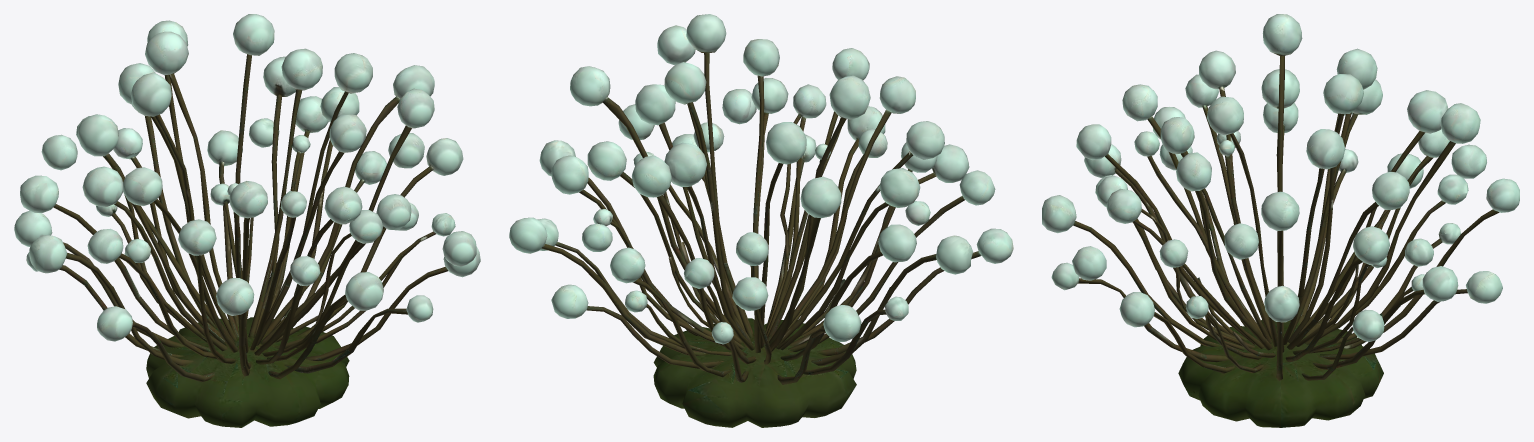
Rendered from puffball-plant.glb.
3 views of the same model, side by side, from view 1: azimuth 30°, elevation 25°; view 2: azimuth 150°, elevation 25°; view 3: azimuth 270°, elevation 25° (orthographic). The views are drawn at different scales.
Visible parts, largest first — view 1: mesh_node; view 2: mesh_node; view 3: mesh_node.
Part boxes in pixels (<box>): mesh_node: <box>14,14,480,427</box>; mesh_node: <box>509,14,1013,427</box>; mesh_node: <box>1042,14,1519,427</box>.
Size of the model in its own units: 1.14 by 0.9 by 1.14.
1 material, 1 textured.
